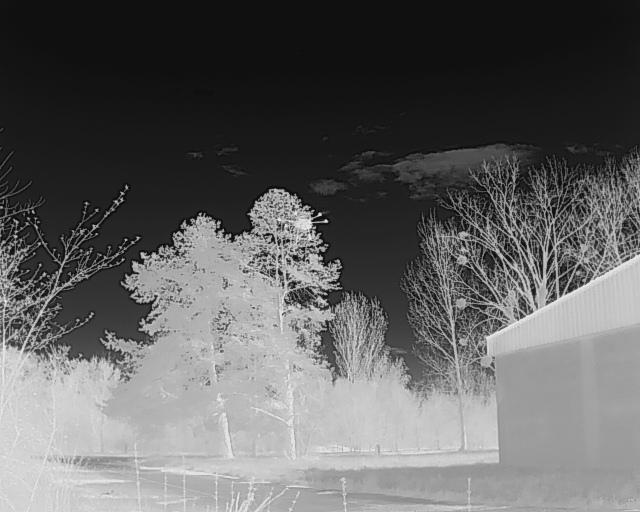drone: (276, 204, 336, 247)
